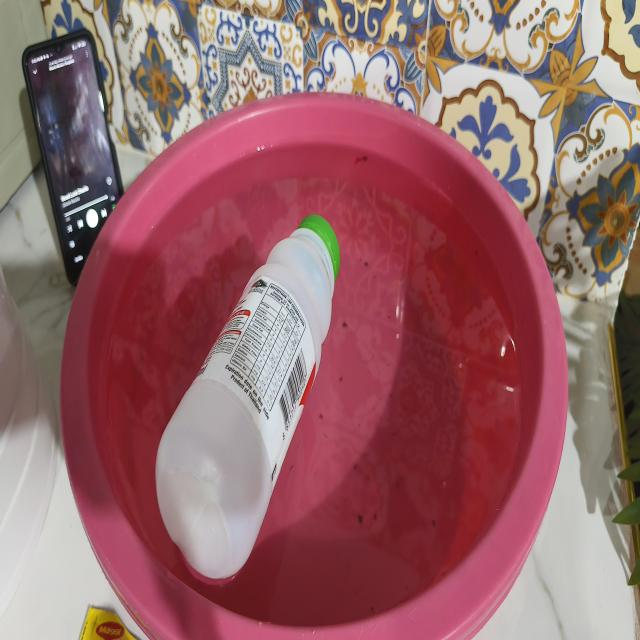Plastic Bottle: (141, 189, 356, 603)
